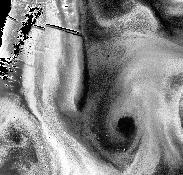CE: (89, 102, 144, 154)
